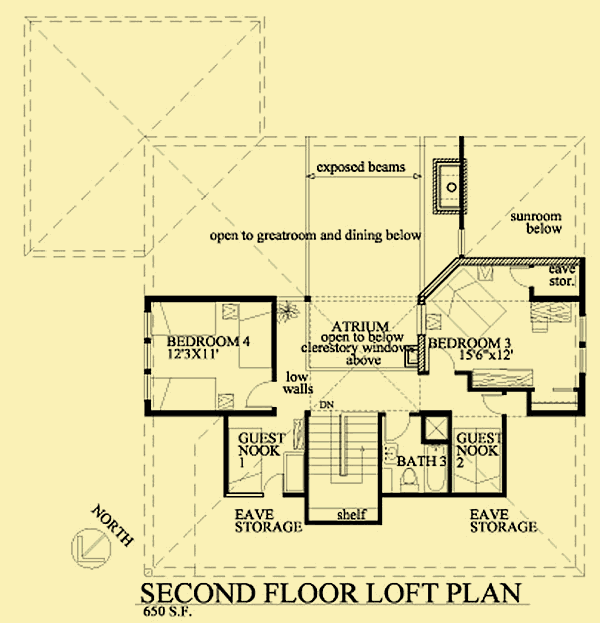bathroom has small and large sink with bathtub: (378, 410, 450, 500)
bedroom has a double bed: (452, 418, 505, 499)
bedroom has single bed: (224, 414, 306, 497)
this bedroom has double bed with bedside stands: (416, 257, 586, 415)
this bedroom has twin beds with tables: (143, 295, 275, 419)
